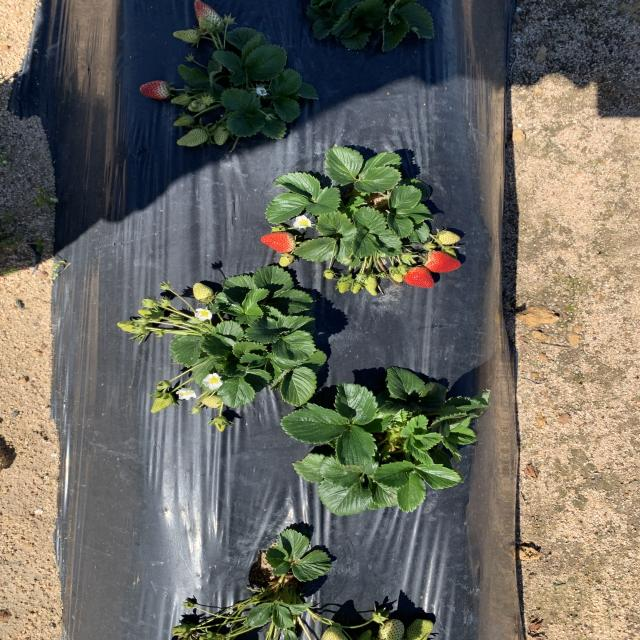unripe: (260, 231, 298, 255), (423, 250, 461, 273), (404, 266, 434, 288), (141, 79, 169, 99)
